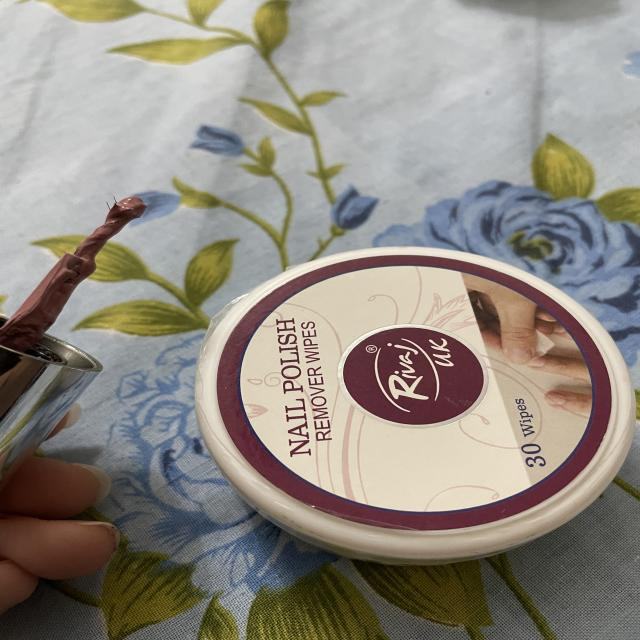nail polish: (0, 177, 167, 474)
nail polish remover: (185, 223, 640, 579)
